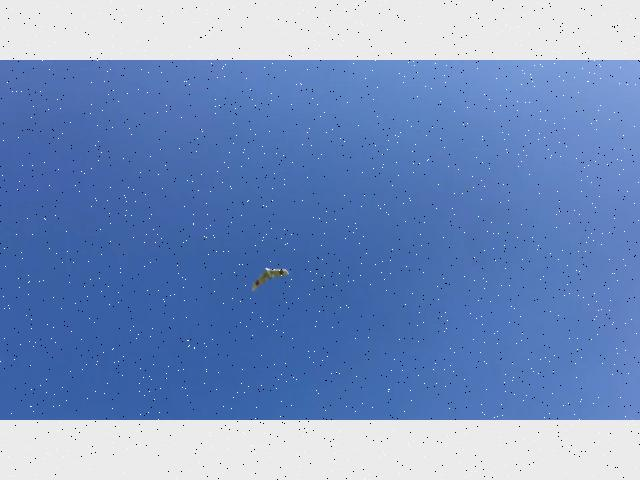Anti-Drone: (239, 255, 301, 301)
